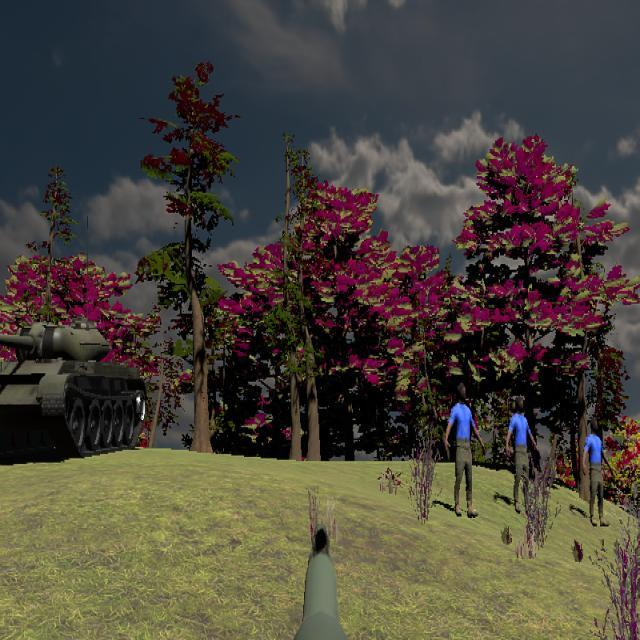Human: (445, 382, 485, 518), (445, 383, 485, 517), (506, 395, 540, 514), (582, 419, 615, 527)
Tank: (0, 316, 151, 462)
